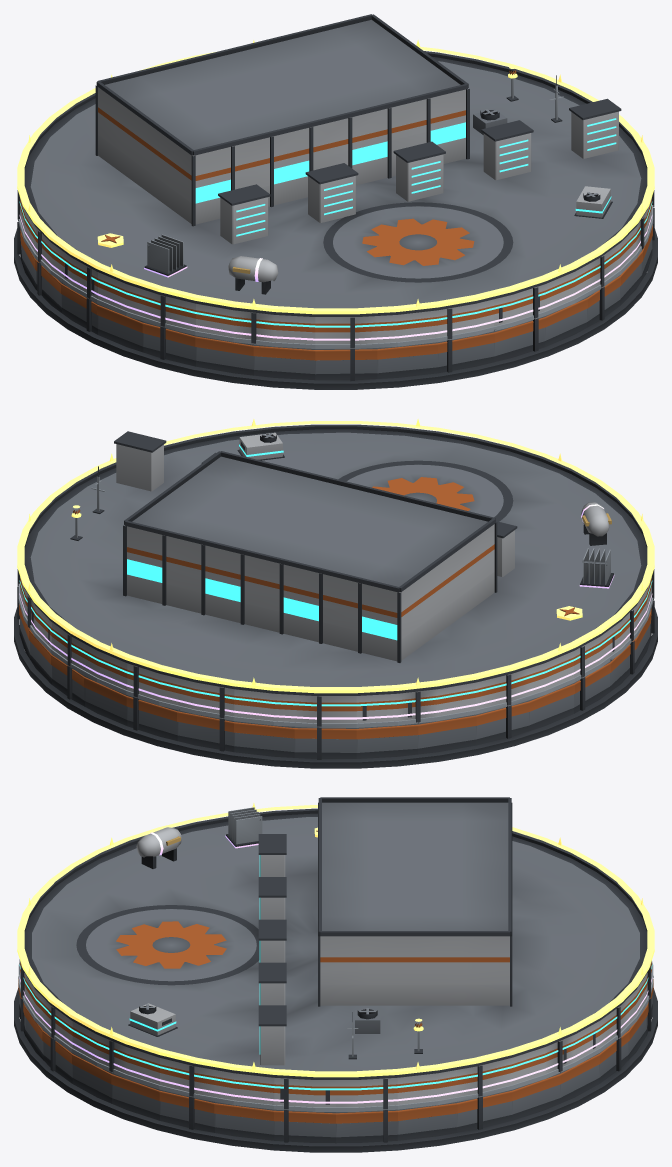
The model's file is battery_plant_xl_far.glb.
3 renders of one model, top to bottom at view 1: azimuth 30°, elevation 25°; view 2: azimuth 150°, elevation 25°; view 3: azimuth 270°, elevation 25°, orthographic.
Parts seen in each view (by area): view 1: Roof, Base, L5, L4, L2, L3; view 2: Roof, Base, L5, L4, L2, L3; view 3: Roof, Base, L5, L4, L2, L3.
Part boxes in pixels (left/top/right/bottom): Roof: left=17, top=14, right=654, bottom=347; Base: left=14, top=208, right=657, bottom=389; L5: left=17, top=40, right=654, bottom=314; L4: left=19, top=215, right=652, bottom=340; L2: left=18, top=75, right=653, bottom=348; L3: left=19, top=186, right=652, bottom=327; Roof: left=17, top=424, right=654, bottom=726; Base: left=14, top=586, right=657, bottom=768; L5: left=17, top=419, right=654, bottom=693; L4: left=19, top=502, right=652, bottom=719; L2: left=18, top=466, right=653, bottom=727; L3: left=19, top=432, right=652, bottom=706; Roof: left=19, top=797, right=651, bottom=1109; Base: left=14, top=976, right=657, bottom=1152; L5: left=17, top=803, right=654, bottom=1077; L4: left=19, top=807, right=652, bottom=1103; L2: left=18, top=961, right=653, bottom=1111; L3: left=19, top=964, right=652, bottom=1090.
Bounding box in the file's own units: 23.15 × 5.76 × 23.15.
